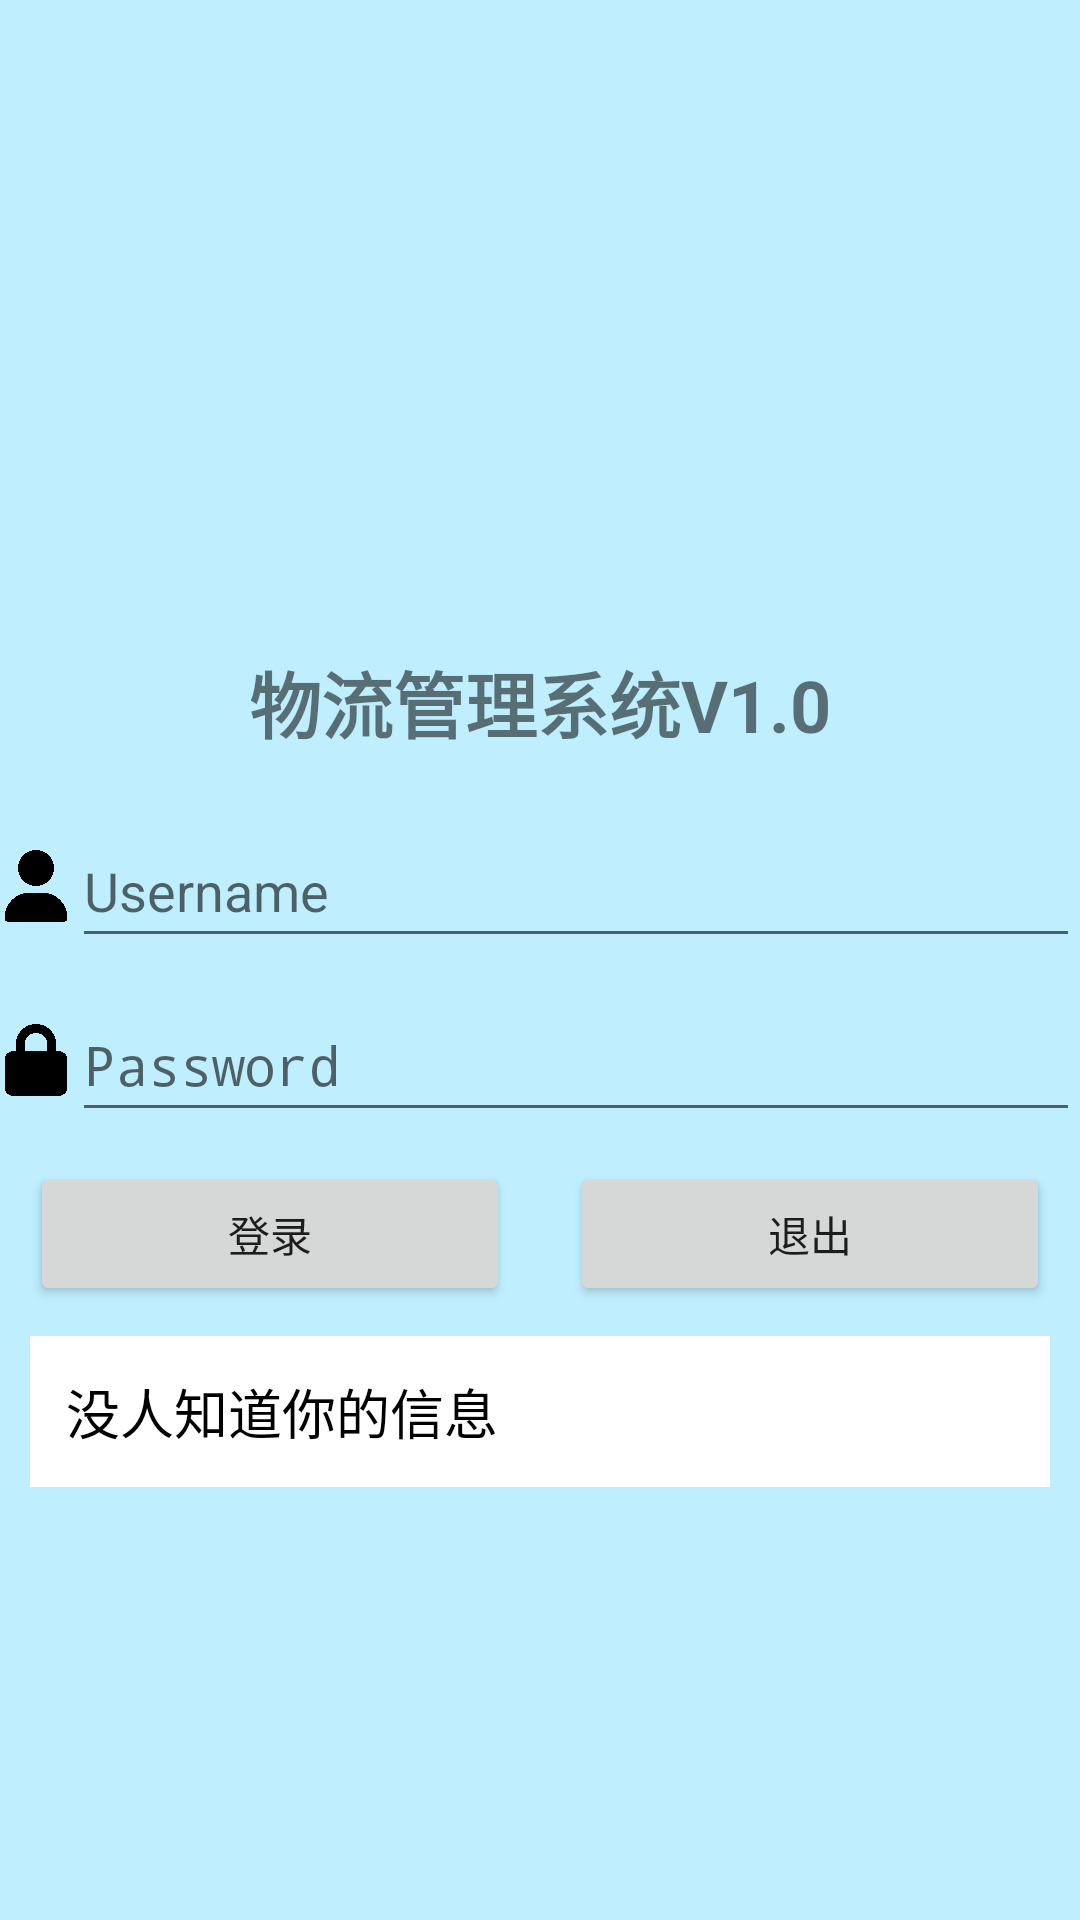

Icon bounding boxes for this 1080px×1920px phone screenshot, format Rect(x1, y1, x2, y2):
lock: Rect(5, 1024, 67, 1096)
